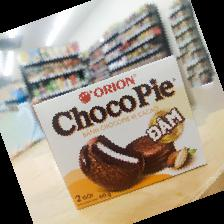Chocopie_cacao: (32, 55, 208, 213)
